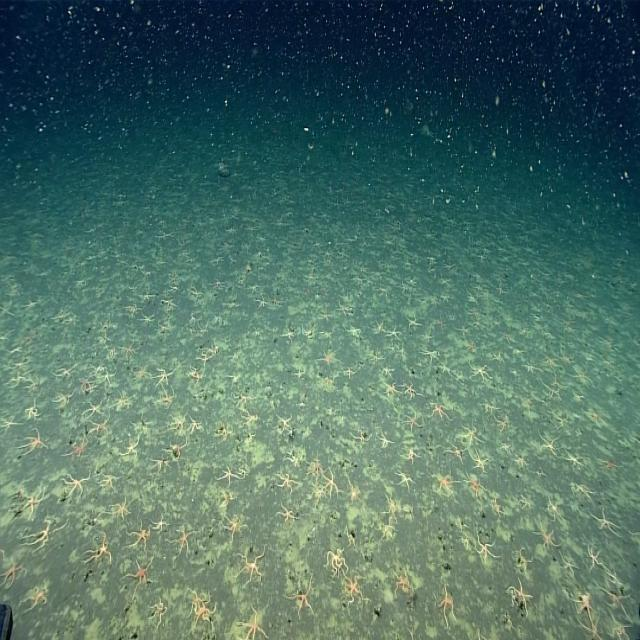brittle-stars: (282, 571, 324, 625), (87, 522, 117, 578), (184, 593, 220, 639), (24, 512, 60, 554), (20, 478, 49, 524), (471, 529, 502, 568), (508, 578, 535, 622), (24, 576, 51, 619), (237, 552, 269, 588), (213, 458, 250, 488), (273, 497, 304, 532), (604, 584, 632, 622), (19, 431, 50, 465), (594, 506, 625, 539), (239, 601, 265, 640), (61, 469, 88, 505), (342, 576, 369, 612), (174, 519, 195, 565), (131, 520, 157, 556), (533, 515, 558, 552), (66, 429, 92, 464), (51, 388, 78, 421), (95, 467, 124, 496), (78, 398, 109, 424), (564, 446, 590, 477), (351, 420, 371, 460), (432, 466, 457, 498), (2, 554, 20, 598), (541, 484, 563, 520), (226, 388, 252, 418), (459, 420, 485, 450), (341, 476, 366, 507), (534, 430, 559, 461), (96, 364, 120, 396), (151, 594, 170, 634), (273, 474, 300, 502), (426, 396, 453, 424), (601, 558, 627, 586), (393, 564, 413, 600), (470, 358, 492, 390), (573, 586, 597, 615), (119, 436, 142, 466), (438, 581, 456, 619), (465, 468, 487, 499), (111, 389, 136, 416), (274, 415, 298, 443), (578, 612, 602, 640), (77, 376, 99, 406), (400, 443, 421, 474), (538, 381, 564, 406), (223, 512, 243, 544), (137, 549, 150, 597), (280, 320, 298, 354), (610, 615, 634, 640), (92, 413, 115, 439), (340, 361, 359, 392), (402, 308, 421, 339), (123, 336, 144, 364), (393, 468, 417, 492), (9, 365, 32, 390), (467, 449, 490, 474), (328, 546, 347, 576), (317, 345, 338, 372), (173, 402, 190, 435), (149, 366, 177, 386), (198, 344, 222, 367), (54, 306, 78, 329), (0, 407, 19, 436), (116, 494, 133, 526), (445, 438, 464, 466), (153, 390, 175, 414), (598, 454, 620, 478), (464, 286, 488, 308), (585, 545, 602, 576), (378, 425, 396, 454), (513, 545, 533, 571), (569, 478, 596, 497), (220, 294, 242, 317), (560, 548, 578, 575), (338, 299, 361, 320), (405, 410, 421, 440), (418, 345, 442, 365), (55, 357, 80, 376), (514, 486, 533, 511), (151, 510, 167, 539), (326, 474, 342, 503), (206, 275, 226, 298), (95, 326, 112, 353), (217, 420, 236, 444), (576, 366, 595, 390), (385, 490, 399, 522), (244, 412, 260, 439), (431, 312, 449, 336), (129, 365, 150, 385), (380, 520, 396, 546), (497, 410, 513, 436), (341, 528, 359, 551), (237, 260, 255, 283), (137, 286, 155, 308), (216, 492, 230, 520), (160, 294, 178, 315), (188, 363, 204, 386), (438, 292, 454, 315), (311, 452, 326, 476), (387, 323, 402, 347), (434, 361, 452, 381), (24, 401, 41, 422), (188, 284, 205, 305), (451, 367, 467, 389), (255, 292, 270, 315), (544, 352, 559, 375), (375, 361, 394, 379), (557, 408, 574, 428), (484, 398, 497, 423), (138, 312, 156, 330), (73, 274, 90, 293), (371, 319, 390, 336), (294, 363, 308, 386), (405, 381, 419, 404), (304, 321, 318, 343), (188, 415, 204, 434), (151, 252, 166, 272), (491, 492, 504, 515), (496, 346, 508, 370), (468, 335, 480, 359), (322, 325, 337, 344), (156, 456, 167, 481), (247, 280, 259, 302), (128, 295, 139, 319), (108, 342, 121, 362), (158, 230, 176, 244), (459, 320, 470, 342), (209, 254, 225, 269), (349, 325, 364, 341), (388, 379, 399, 400), (524, 359, 536, 378), (473, 312, 482, 337), (131, 260, 149, 272), (513, 452, 526, 467), (422, 330, 431, 348), (320, 312, 331, 326)
